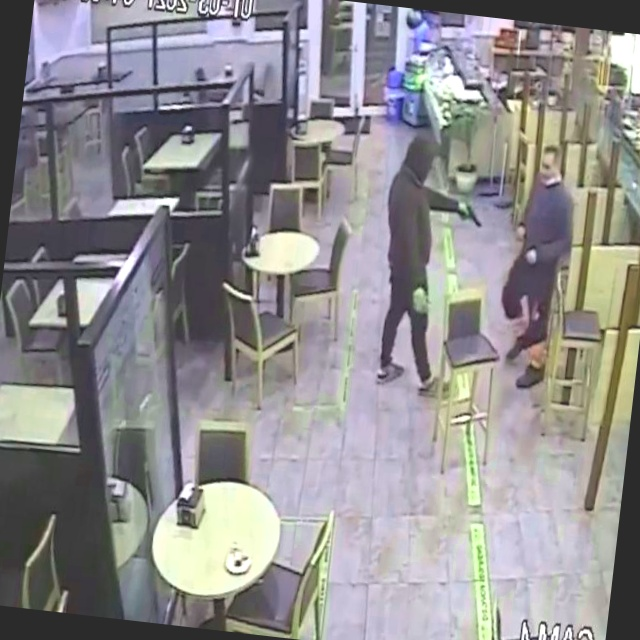gun: (454, 190, 494, 239)
